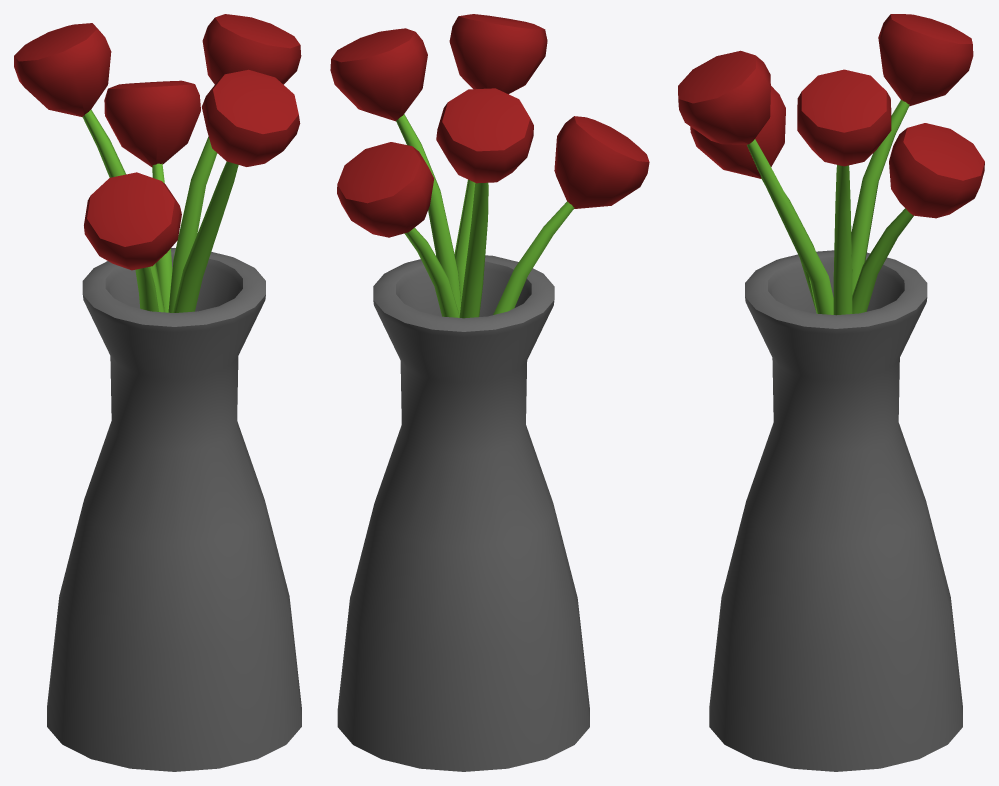
The model's file is SM_flower_room_02.fbx.
The picture shows the model from 3 angles, left to right: view 1: azimuth 30°, elevation 25°; view 2: azimuth 150°, elevation 25°; view 3: azimuth 270°, elevation 25°; orthographic projection.
Visible parts, largest first — view 1: Cylinder045; view 2: Cylinder045; view 3: Cylinder045.
Boxes of the visible parts, x1,y1,x2,y2 form: Cylinder045: (14,14,301,771); Cylinder045: (330,14,649,771); Cylinder045: (678,14,984,771).
Bounding box in the file's own units: 15.02 × 37.93 × 15.69.
